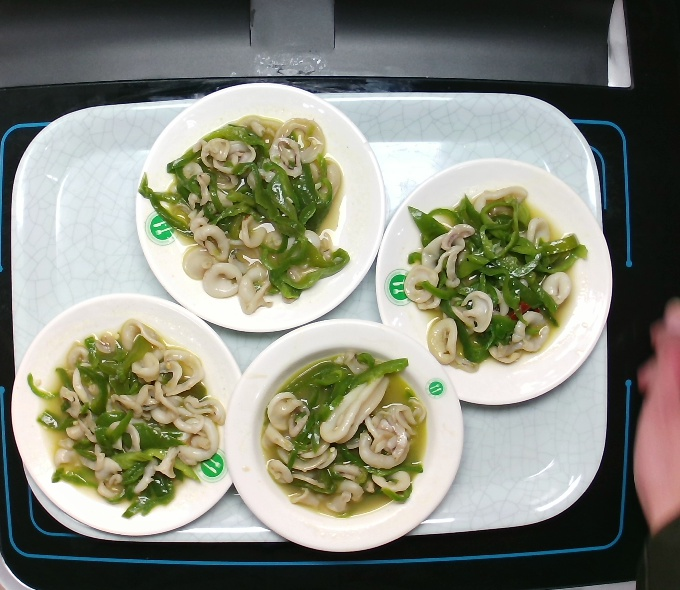wcq-QingJiaoYouYu: (133, 117, 356, 315), (22, 316, 245, 514), (398, 183, 591, 375), (251, 341, 441, 518)
